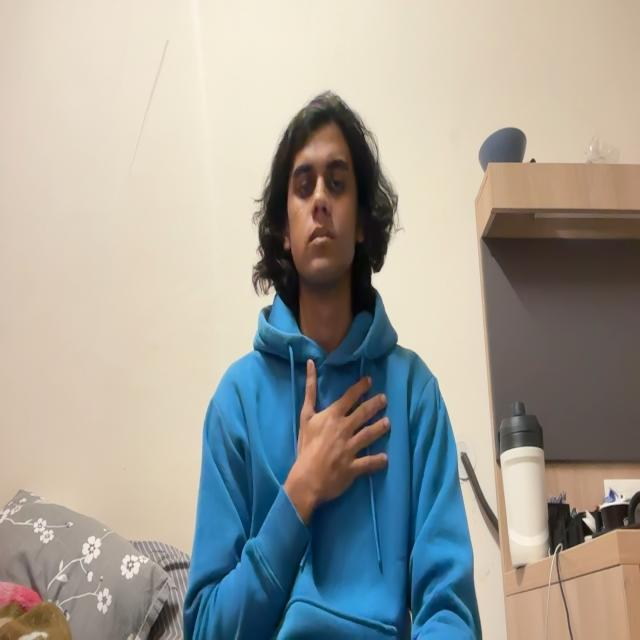Please: (276, 337, 397, 525)
